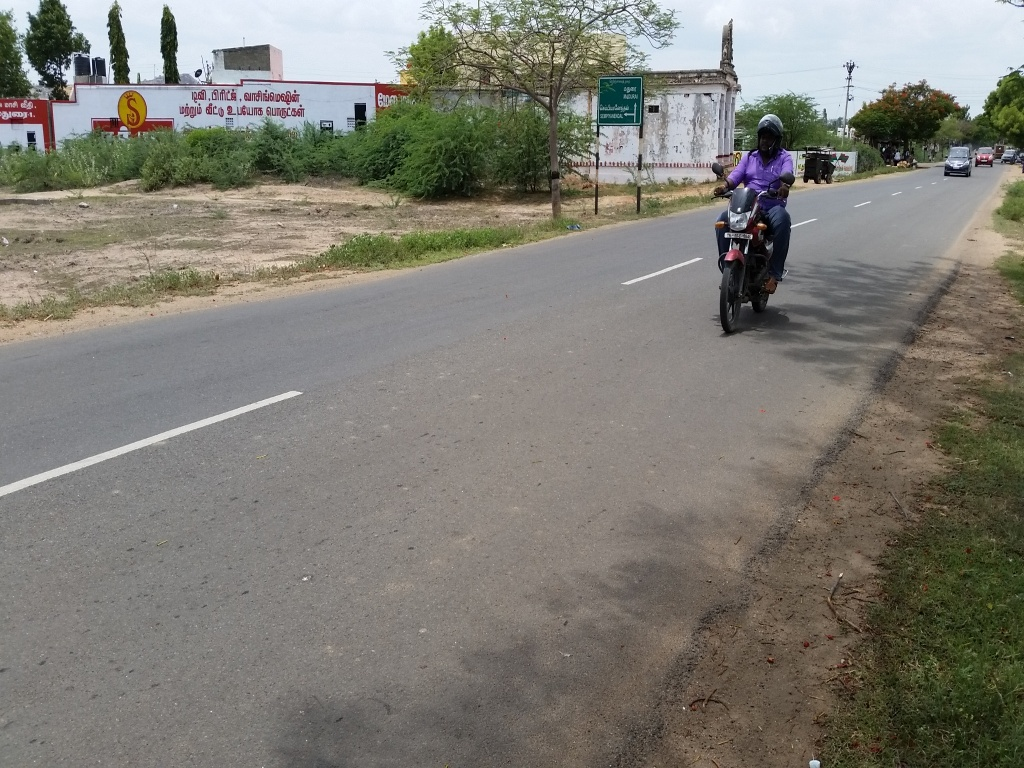biker: (691, 86, 830, 348)
helmet: (750, 103, 793, 171)
